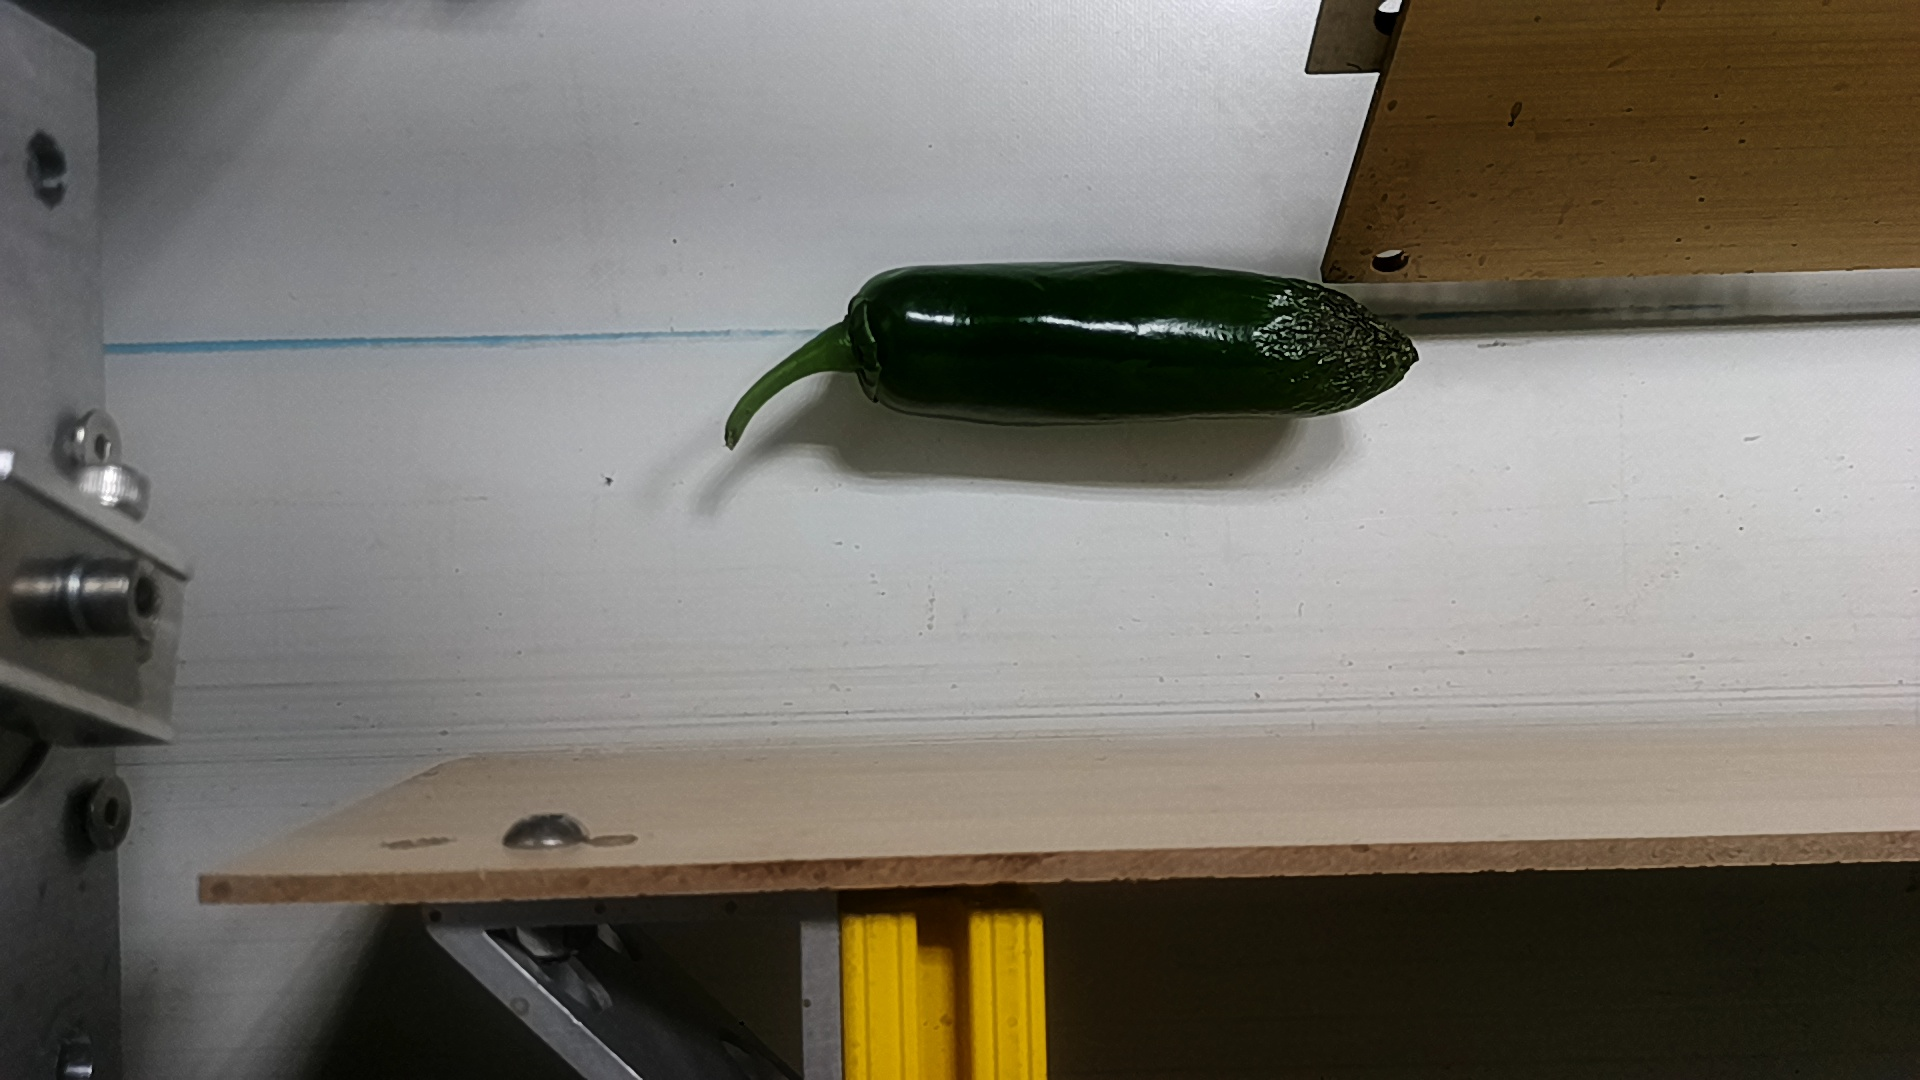Cut Point: (828, 264, 931, 422)
